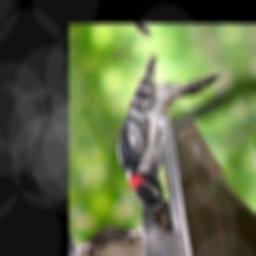Woodpecker: (95, 33, 252, 223)
